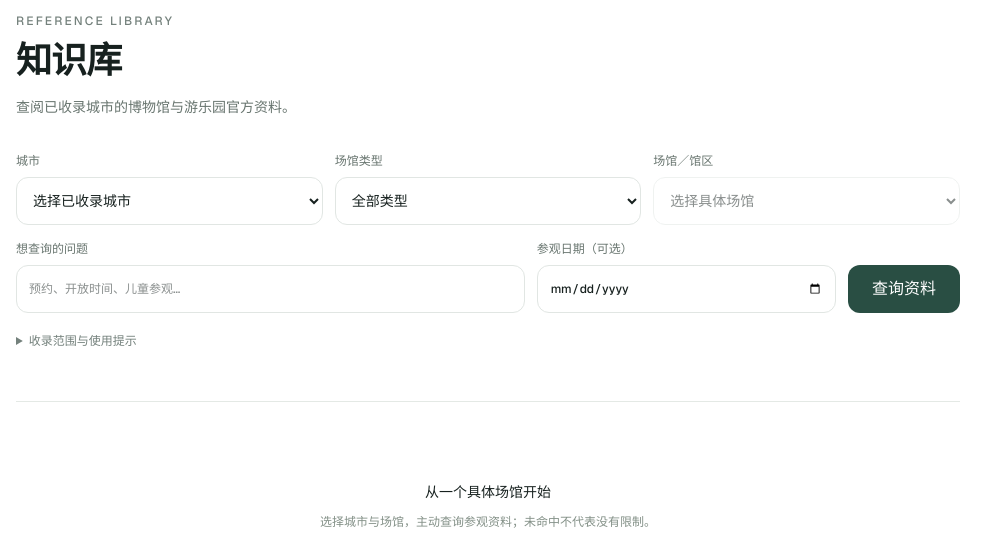
Scenario: national reference page remains retrieval-only › cancel remains keyboard reachable and late data cannot resurrect results
The width and height of the screenshot is (983, 545).
Select "上海" in the dropdown labelled "城市" at (169, 201), box [16,177,323,225]
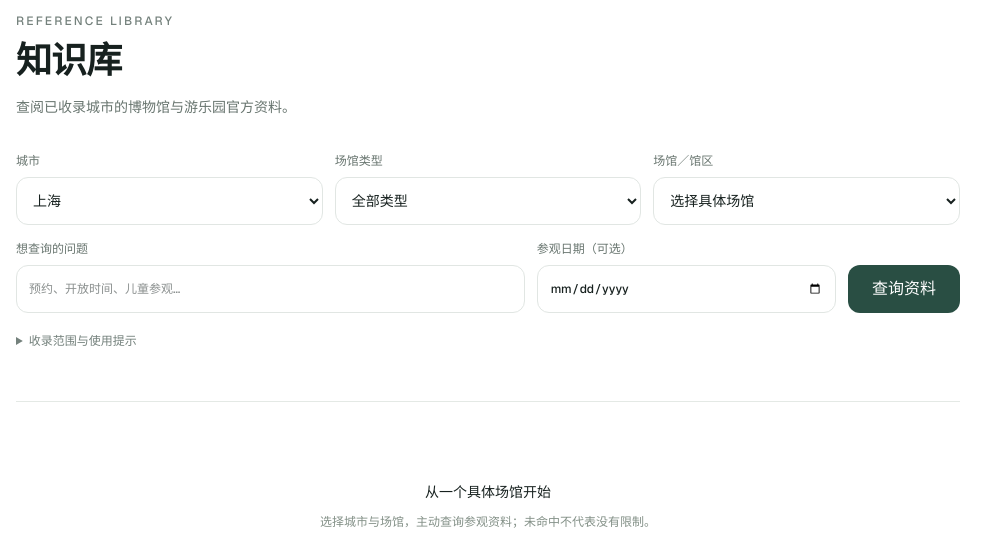
Select "受控上海馆" in the dropdown labelled "场馆／馆区" at (807, 201), box [653,177,960,225]
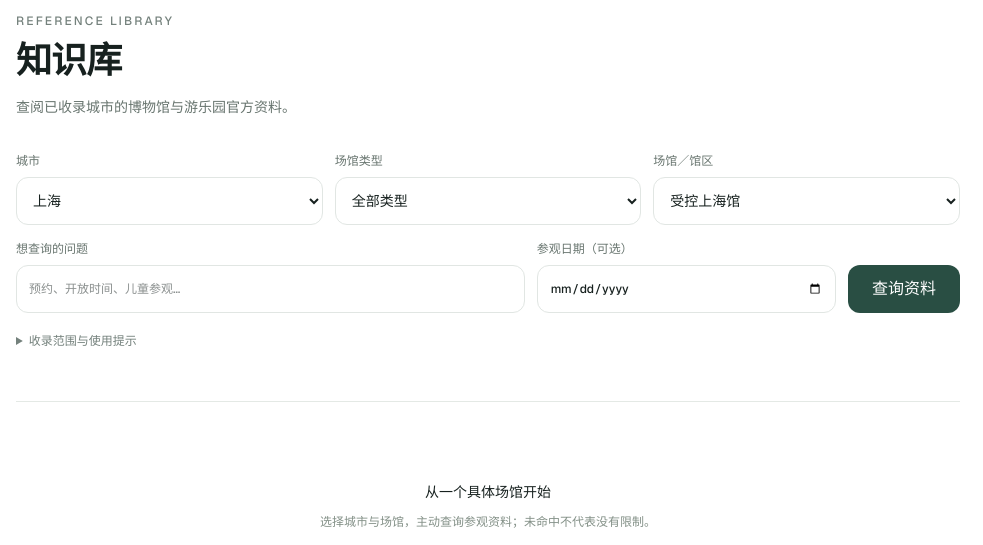
Type "预约说明" into the field labelled "想查询的问题" at (270, 289), box [16,265,525,313]
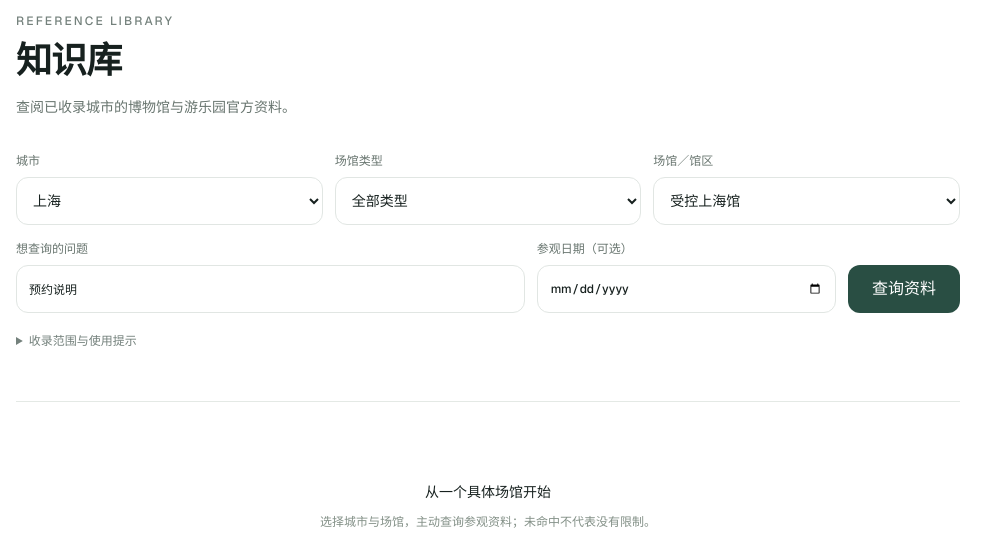
Submit the form "查询资料", box [16,153,960,313]
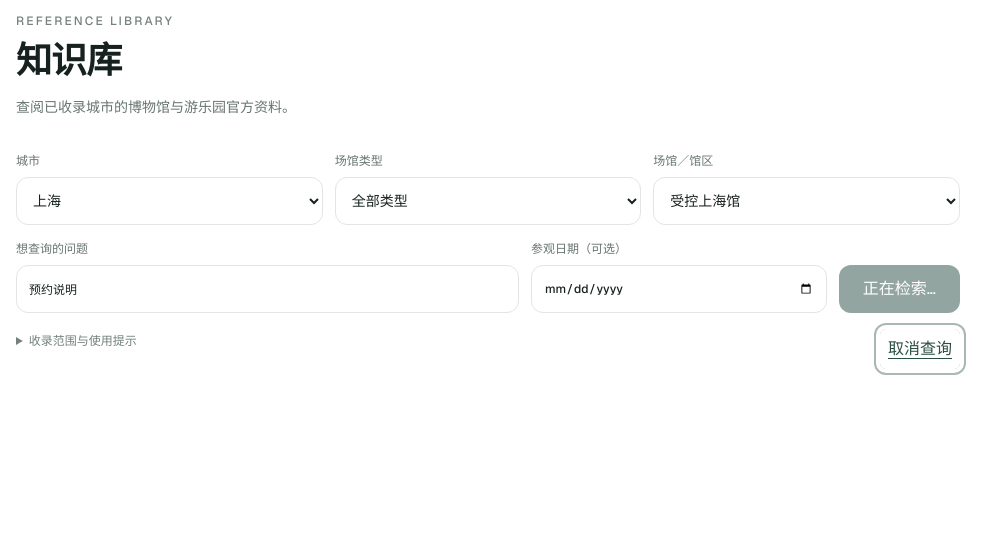
Click the button "取消查询" at (920, 349), box [880,329,960,369]
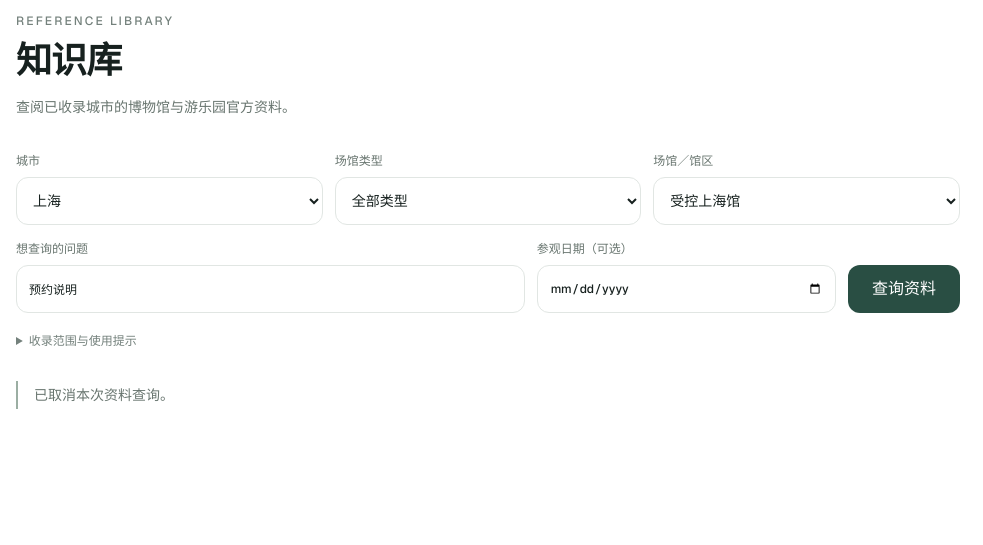
Expected: the text "已取消本次资料查询。" is shown, [16,381,960,409]
